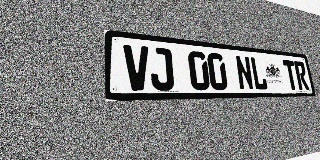0: (187, 50, 210, 90), (207, 52, 228, 90)
J: (149, 47, 175, 91)
L: (250, 57, 268, 90)
N: (235, 55, 254, 90)
R: (294, 61, 309, 90)
T: (282, 60, 299, 90)
V: (123, 44, 151, 91)
